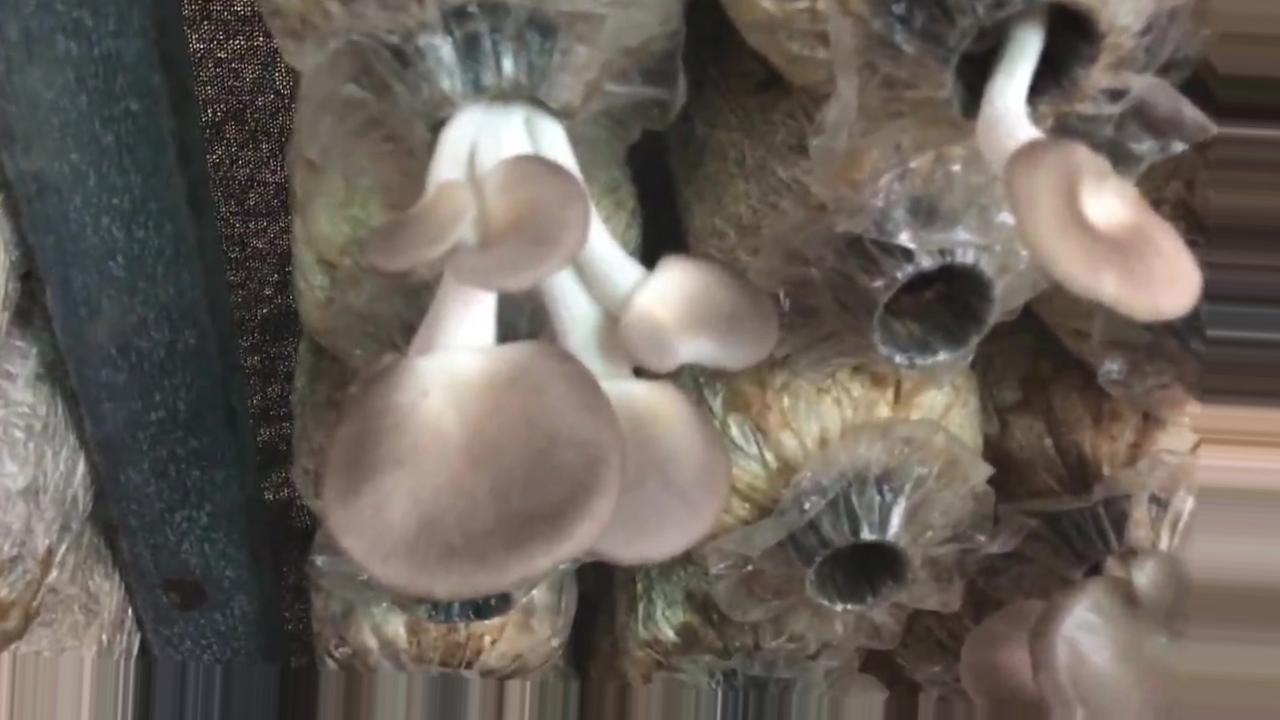nam: (327, 13, 778, 595), (931, 1, 1198, 321)
